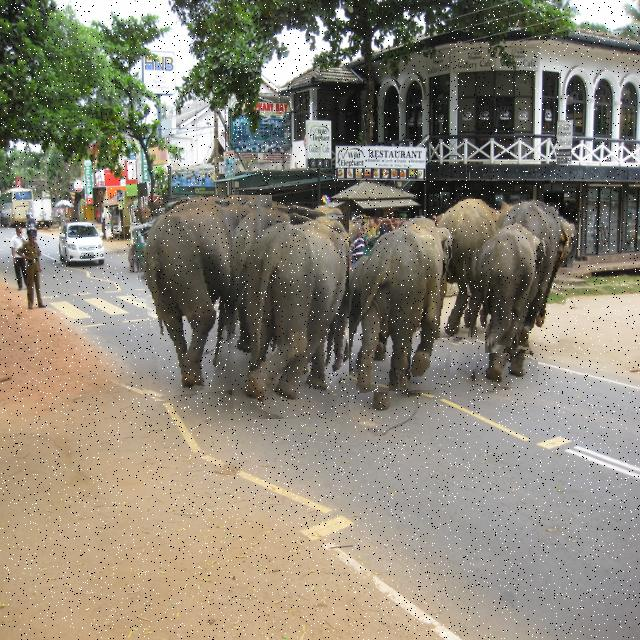elephant: (215, 201, 349, 419), (136, 195, 272, 398), (347, 218, 463, 394), (482, 197, 575, 353), (461, 220, 538, 392), (435, 199, 504, 338)
